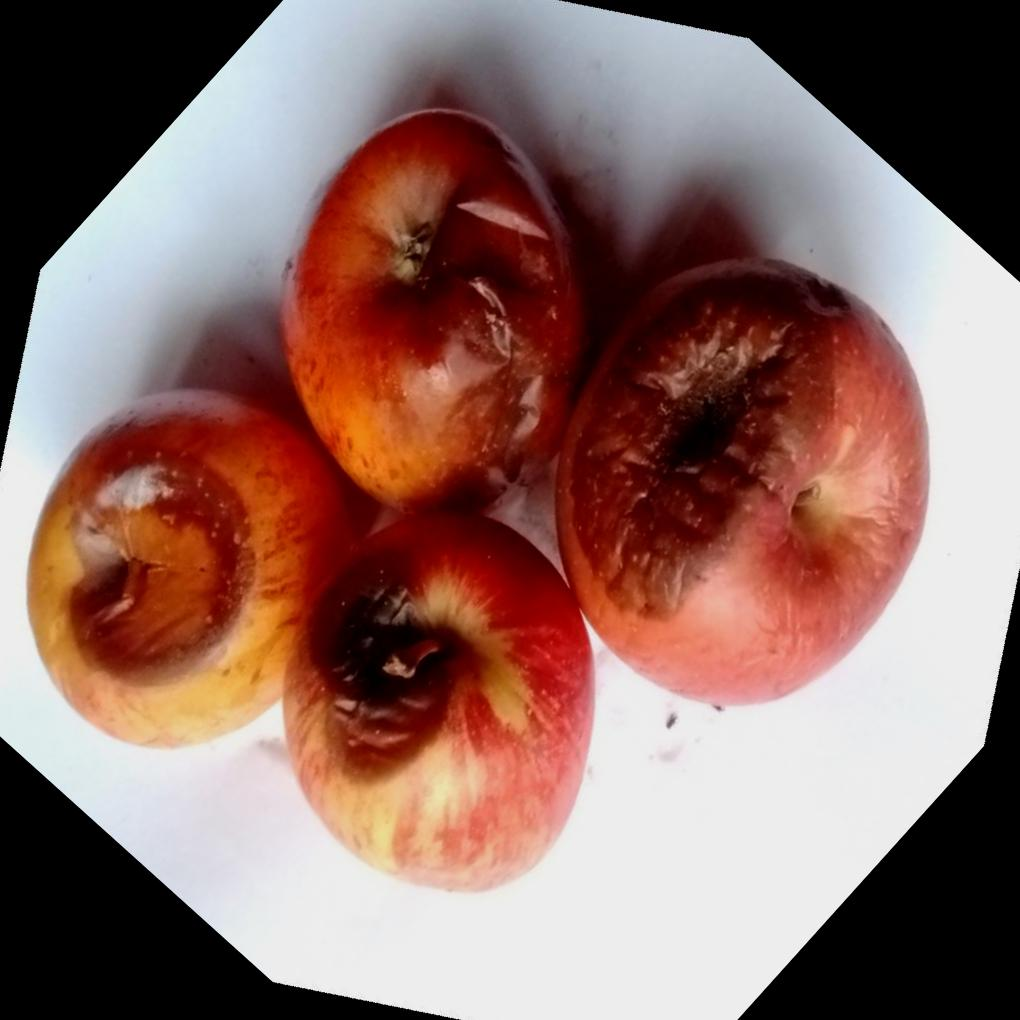FreshOrange: (23, 111, 930, 894)
